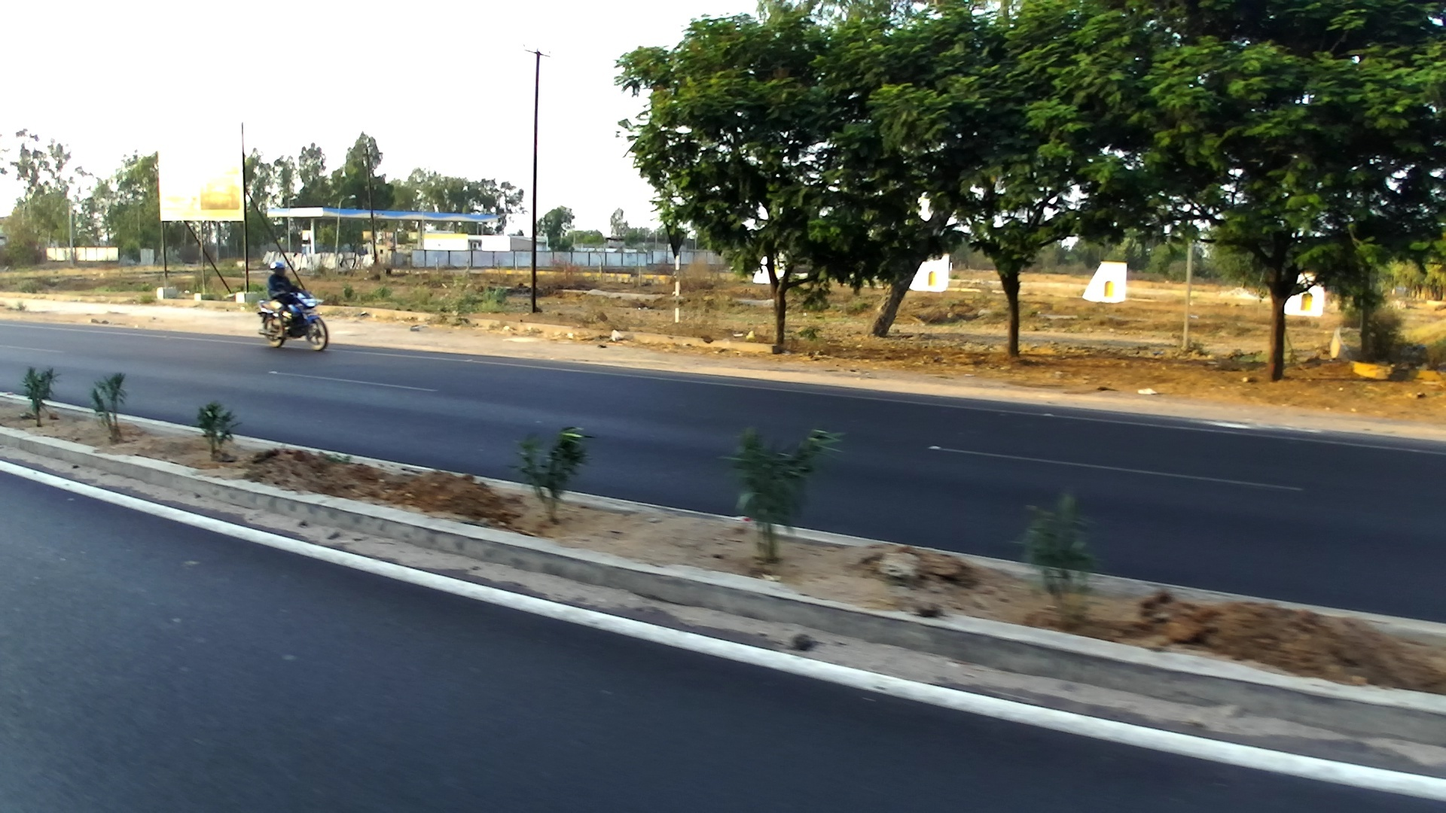motorcycle: (258, 284, 331, 352)
rider: (264, 259, 302, 340)
